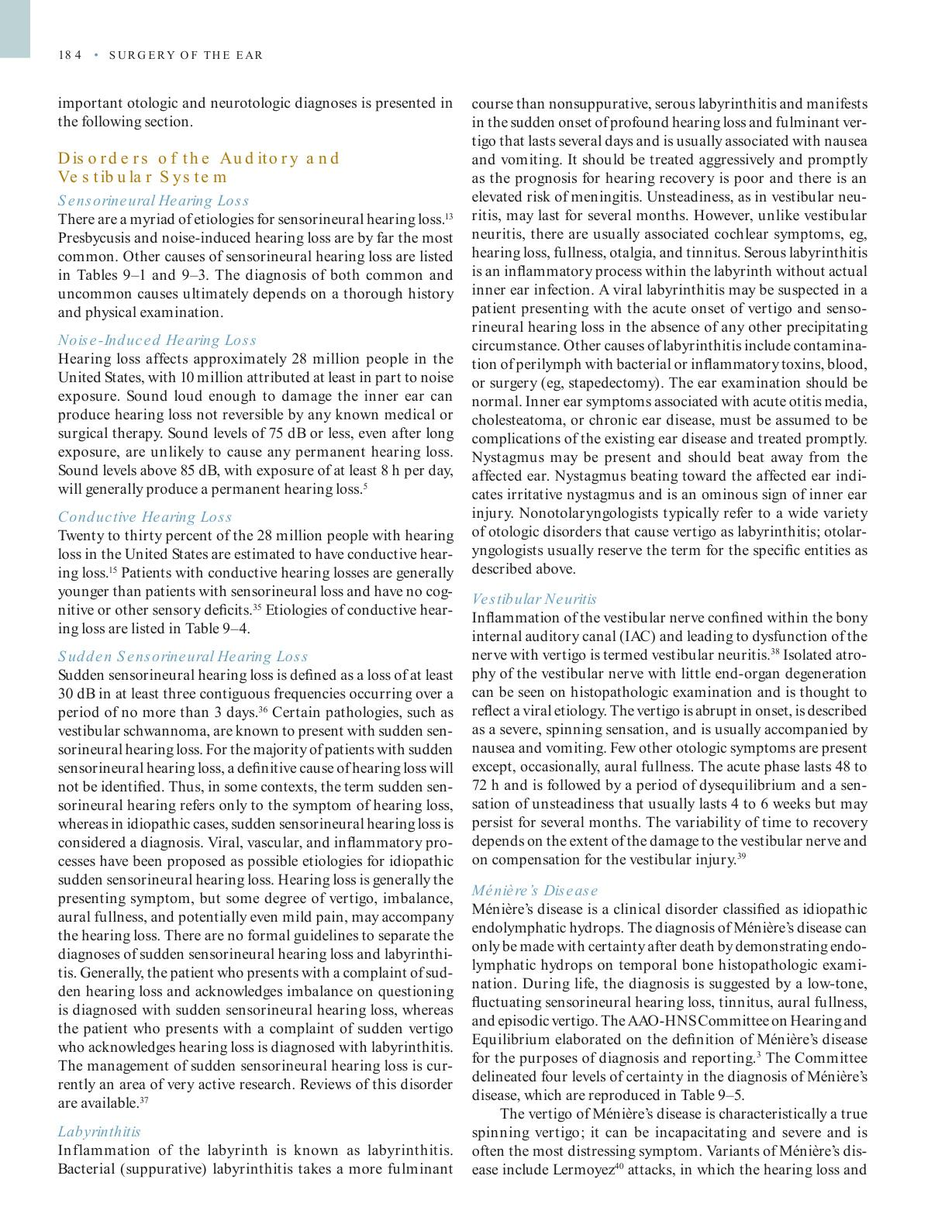header: (108, 50, 263, 61)
section-heading: (56, 149, 341, 187)
sub-section-heading: (56, 648, 309, 664), (57, 193, 251, 210), (56, 333, 258, 349), (58, 508, 233, 526), (471, 882, 599, 899), (472, 591, 598, 605), (56, 1123, 142, 1142)
text: (469, 95, 869, 578), (57, 666, 455, 1110), (470, 901, 869, 1180), (470, 609, 870, 869), (56, 351, 455, 498), (56, 527, 457, 638), (57, 211, 456, 322), (56, 94, 454, 131), (56, 1143, 454, 1178)
